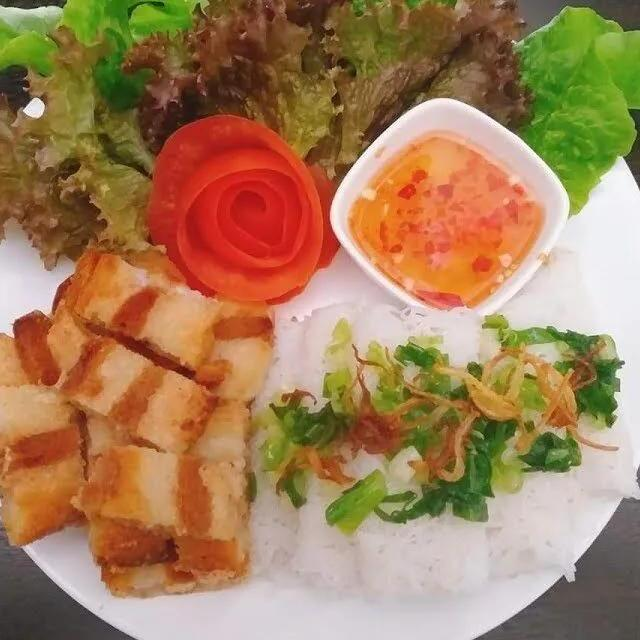banh hoi: (463, 307, 594, 587), (384, 294, 501, 595), (285, 290, 393, 593), (340, 296, 439, 599), (231, 306, 329, 591), (541, 317, 640, 508)
banh hoi heo quay: (0, 14, 640, 640)
thit heo quay: (57, 227, 285, 408), (31, 290, 226, 465), (62, 438, 263, 545), (0, 376, 110, 555)
